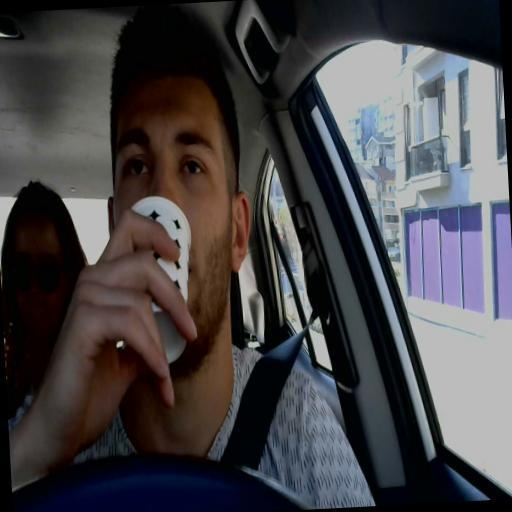Drinking: (97, 76, 251, 406)
